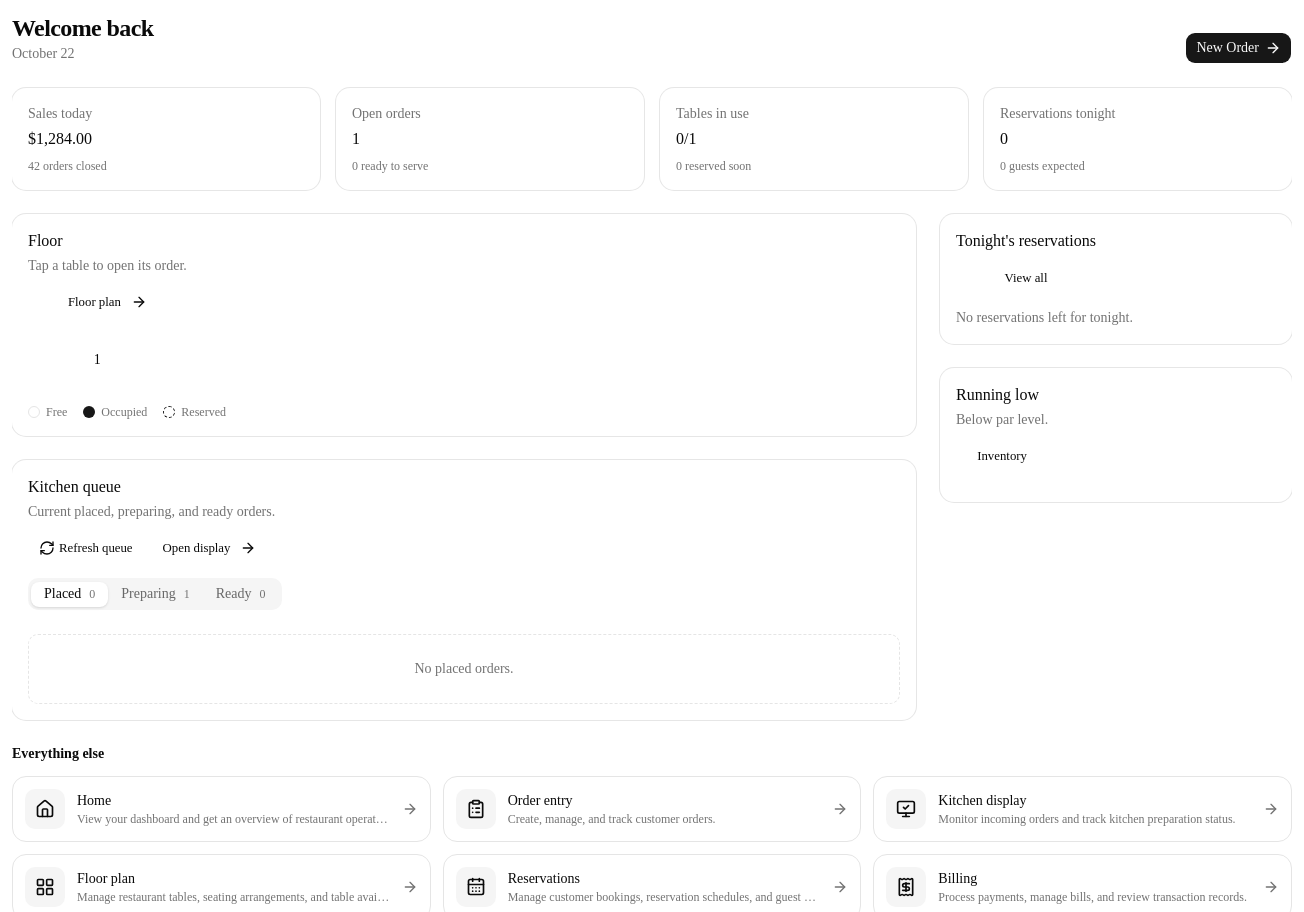
Scenario: refresh loads tickets and status changes made in another session
Check: the tab "Preparing 1" is shown, box [108,582,203,606]
Click the button "Refresh queue" at point(86, 548), box [28,534,144,562]
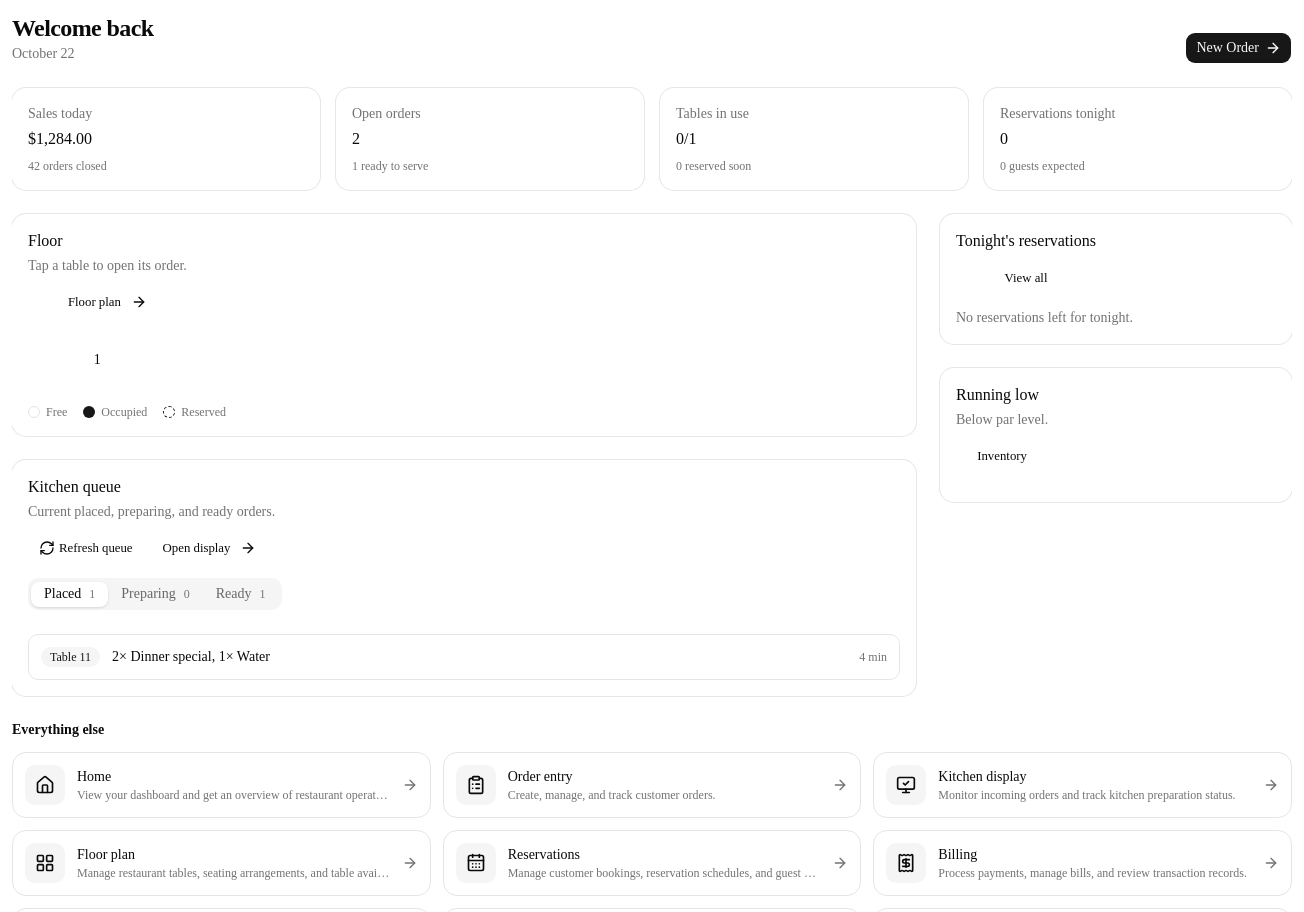
Check: the tab "Placed 1" is shown, box [31,582,108,606]
Check: the icon "Table 11" is shown, box [41,647,100,667]
Check: the tab "Preparing 0" is shown, box [108,582,203,606]
